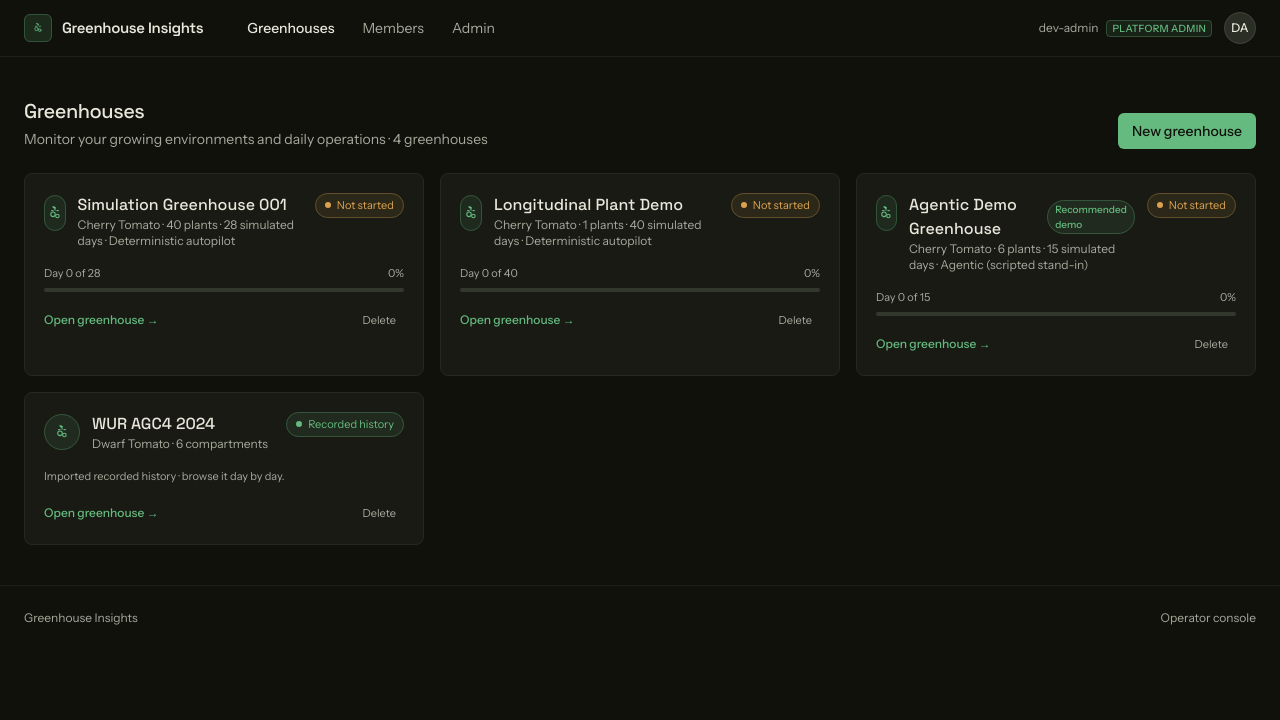
Test: GreenhouseListPage › shows an error and keeps the card when deletion fails
Check: the text "Simulation Greenhouse 001" is shown, box [78, 193, 287, 217]
Click the button "Delete" below "· 40 plants" at [379, 320], box [354, 308, 404, 332]
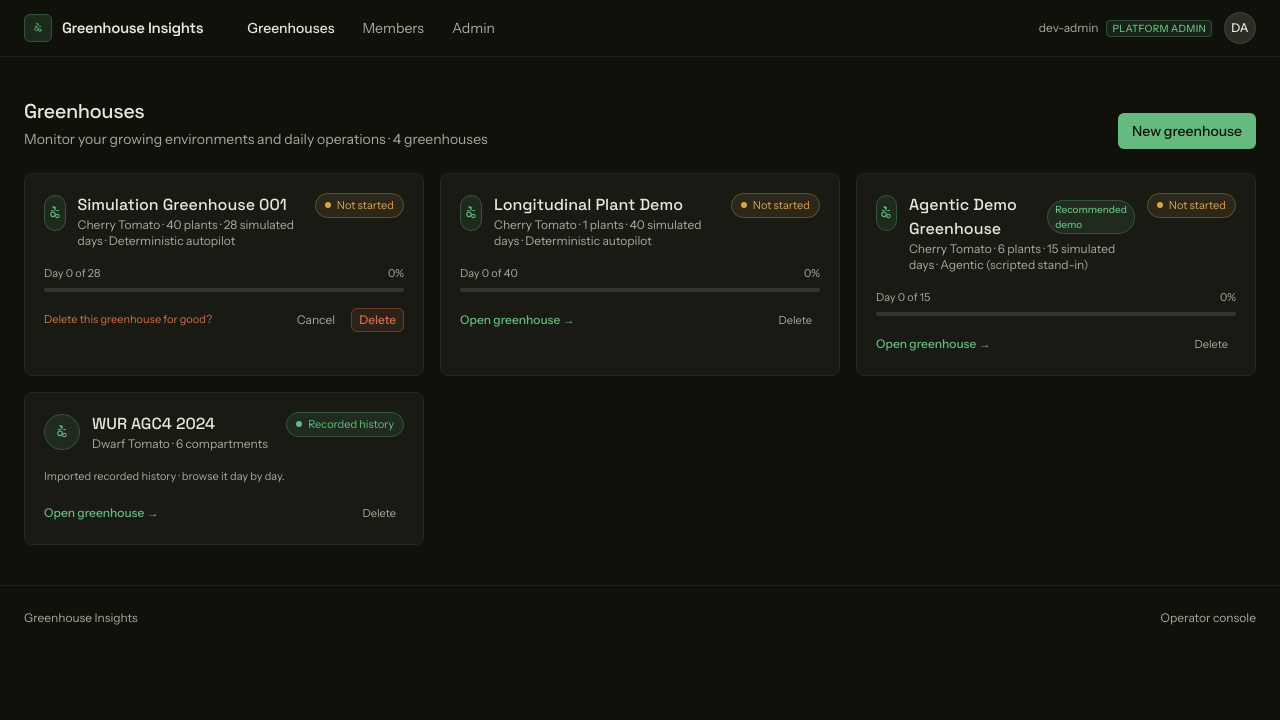
Click the button "Delete" in the row of "Delete this greenhouse for good?" at [378, 320], box [351, 308, 404, 332]
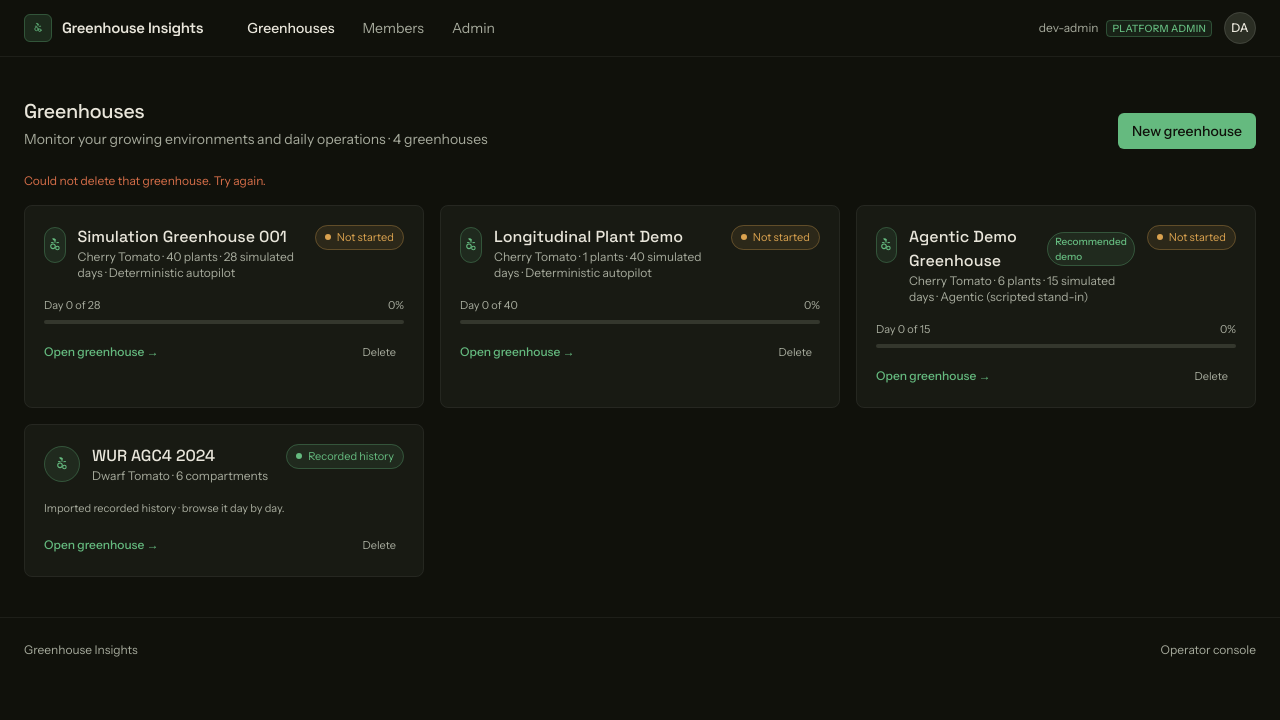
Check: the text "Simulation Greenhouse 001" is shown, box [78, 225, 287, 249]
Check: the text "Could not delete that greenhouse. Try again." is shown, box [24, 173, 266, 188]
